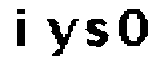0: (116, 5, 151, 53)
i: (13, 5, 32, 51)
s: (82, 16, 109, 50)
y: (44, 14, 80, 60)
